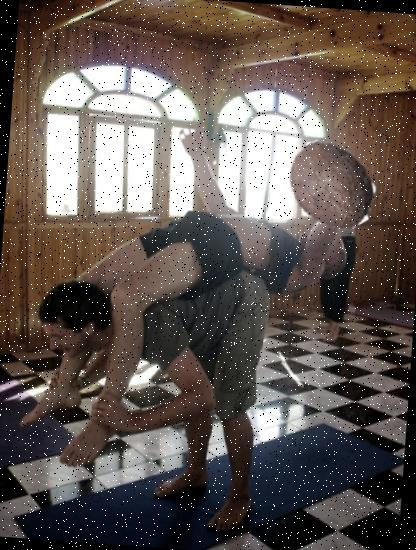Cocos: (282, 134, 384, 236)
